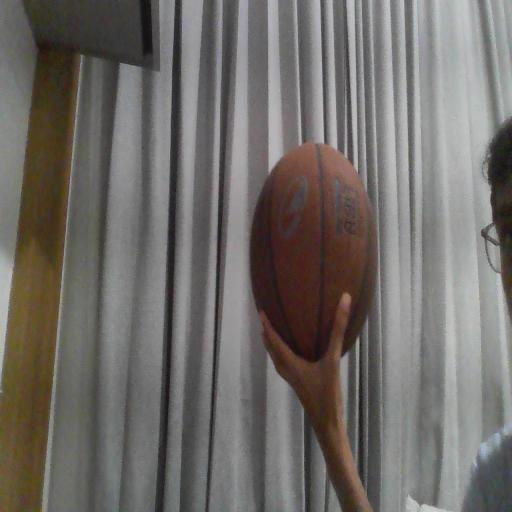basketball: (248, 136, 380, 355), (250, 142, 378, 361)
